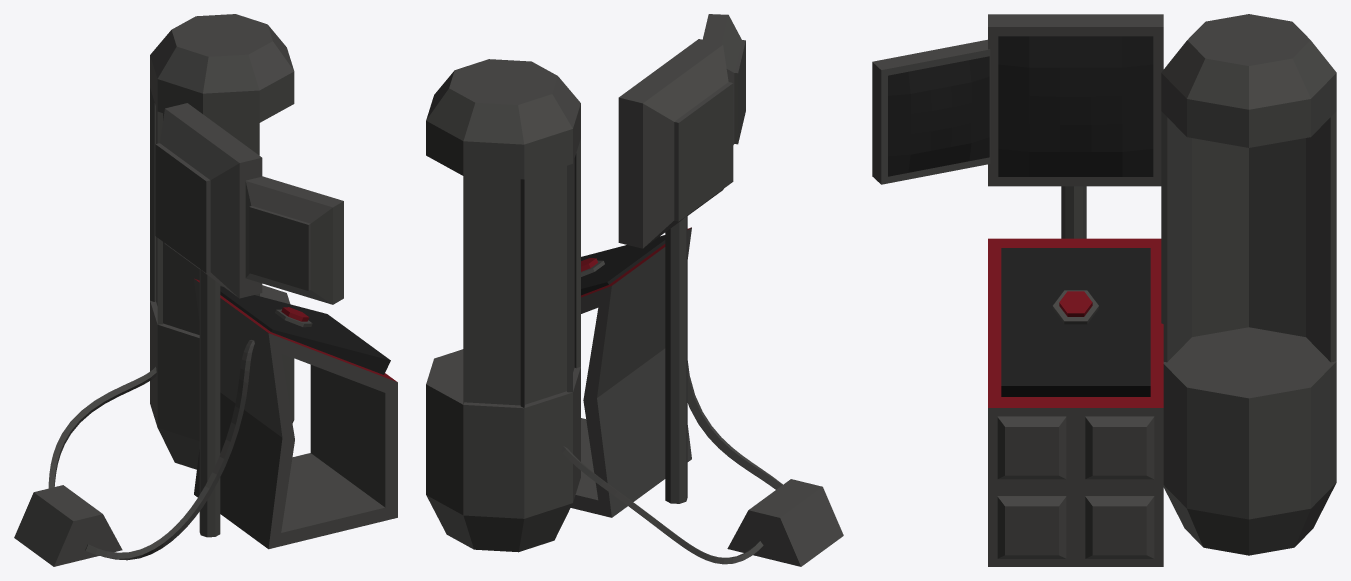
The model's file is ResearchCenter.fbx.
3 views of the same model, side by side, from view 1: azimuth 30°, elevation 25°; view 2: azimuth 150°, elevation 25°; view 3: azimuth 270°, elevation 25° (orthographic). The views are drawn at different scales.
Visible parts, largest first — view 1: Research_Center; view 2: Research_Center; view 3: Research_Center.
Part boxes in pixels (x1,y1,x2,y2): Research_Center: (14,14,397,566); Research_Center: (426,14,843,566); Research_Center: (872,14,1336,566).
Size of the model in its own units: 485 by 623 by 529.
